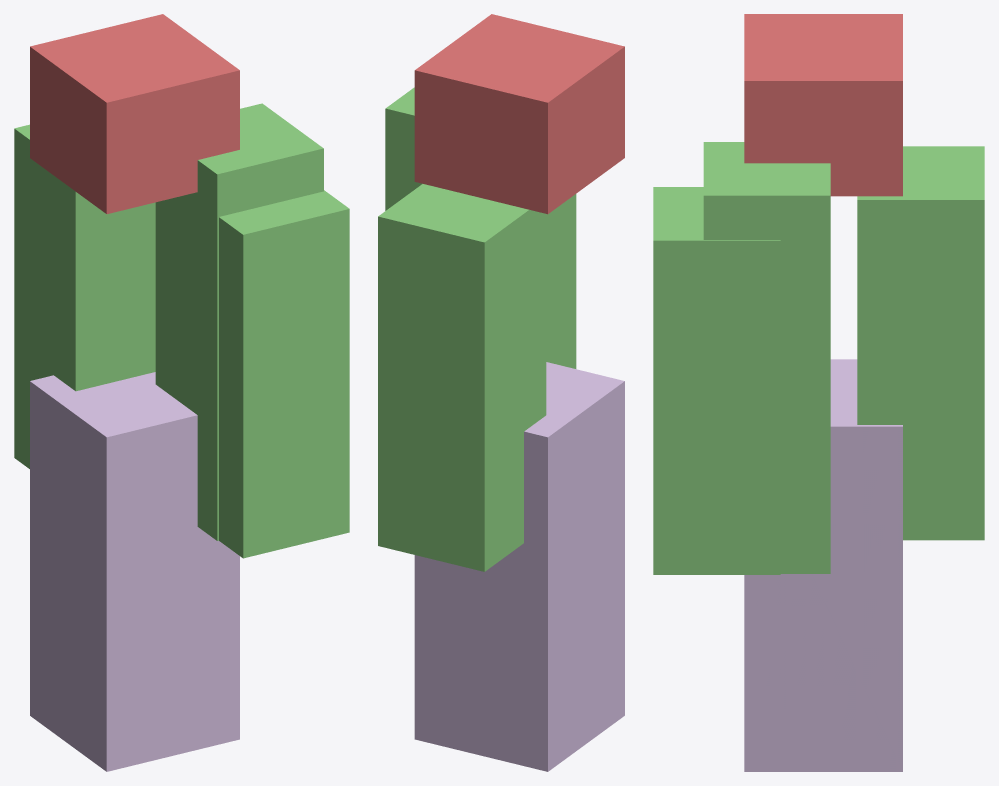
The model's file is Item_Herb_AMF_Barkbalm_Bundle2.glb.
3 renders of one model, left to right at view 1: azimuth 30°, elevation 25°; view 2: azimuth 150°, elevation 25°; view 3: azimuth 270°, elevation 25°, orthographic. The views are drawn at different scales.
Parts seen in each view (by area): view 1: Item_Herb_AMF_Barkbalm_Bundle2; view 2: Item_Herb_AMF_Barkbalm_Bundle2; view 3: Item_Herb_AMF_Barkbalm_Bundle2.
Boxes of the visible parts, <box> form: Item_Herb_AMF_Barkbalm_Bundle2: <box>14,14,349,771</box>; Item_Herb_AMF_Barkbalm_Bundle2: <box>378,14,624,771</box>; Item_Herb_AMF_Barkbalm_Bundle2: <box>653,14,984,771</box>.
Bounding box in the file's own units: 0.0747 × 0.24 × 0.1042.
